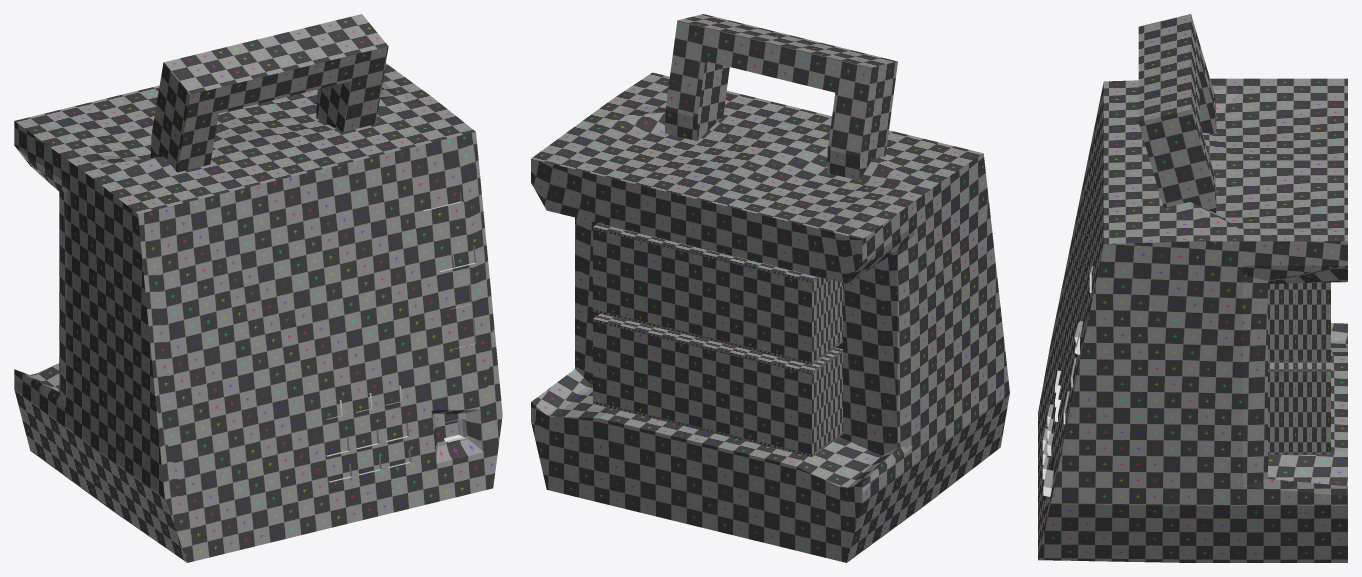
The model's file is Beneheart_D6.glb.
3 renders of one model, left to right at view 1: azimuth 30°, elevation 25°; view 2: azimuth 150°, elevation 25°; view 3: azimuth 270°, elevation 25°, orthographic.
Visible parts, largest first — view 1: monitor, Botones; view 2: monitor, baterias; view 3: monitor, baterias, Botones.
Part boxes in pixels (x1,y1,x2,y2): monitor: (14,14,502,562); Botones: (326,192,476,482); monitor: (531,14,1009,562); baterias: (593,223,842,456); monitor: (1038,14,1347,562); baterias: (1268,282,1330,454); Botones: (1042,266,1093,496).
Bounding box in the file's own units: 3.78 × 4.63 × 3.04.
Materials: 2 (2 with a texture image).
